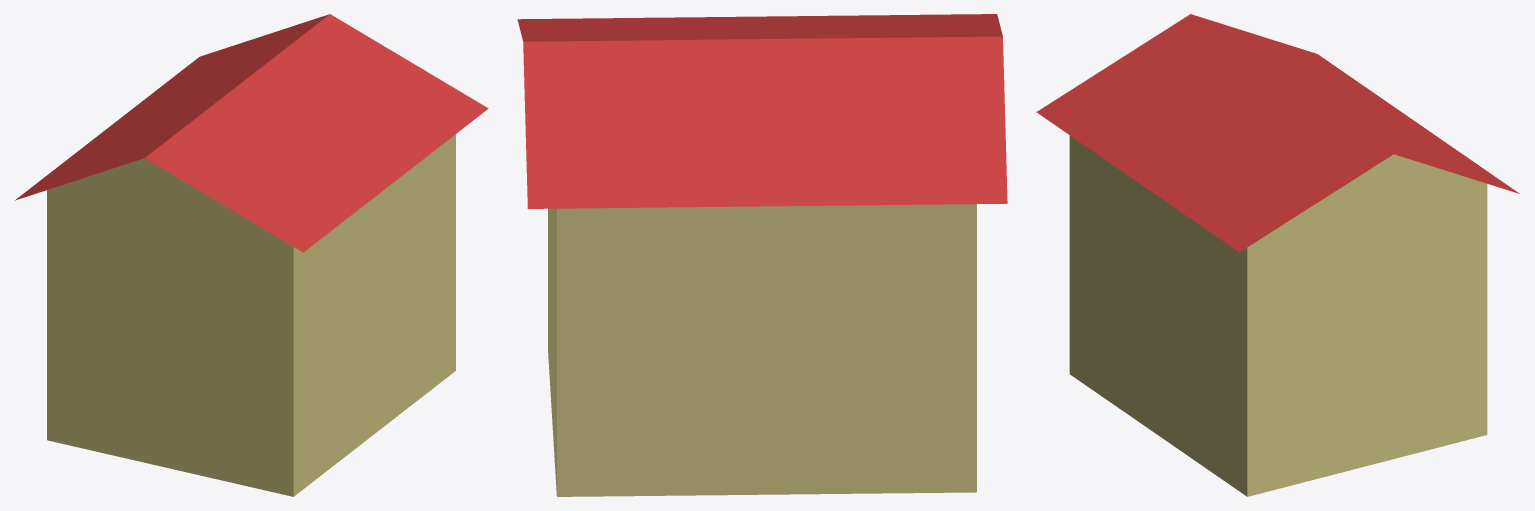
The picture shows the model from 3 angles, left to right: view 1: azimuth 30°, elevation 25°; view 2: azimuth 150°, elevation 25°; view 3: azimuth 270°, elevation 25°; orthographic projection. The views are drawn at different scales.
Size of the model in its own units: 10.42 by 10.01 by 7.22.
